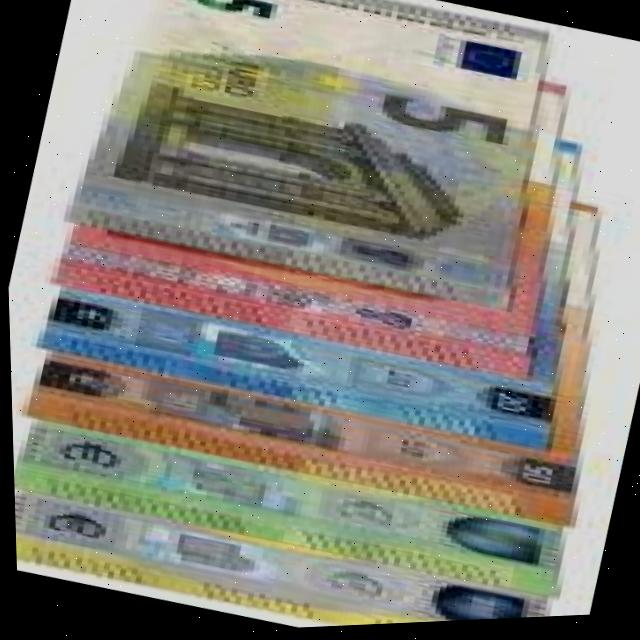banknote: (11, 83, 640, 559), (17, 27, 621, 480), (31, 0, 598, 402), (49, 0, 578, 337), (10, 393, 577, 627), (11, 466, 559, 640), (363, 77, 522, 168), (167, 0, 291, 38), (466, 382, 547, 436), (126, 313, 201, 355), (494, 458, 564, 503), (135, 381, 206, 423), (117, 252, 181, 292)
